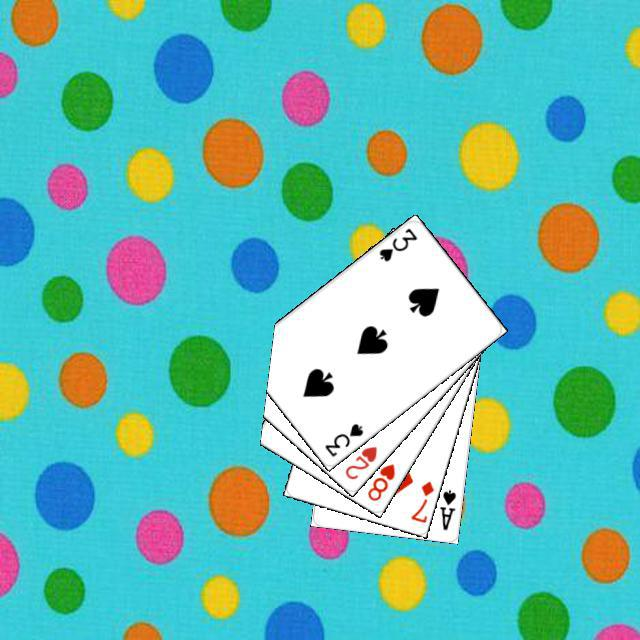2h: (340, 441, 379, 481)
3s: (320, 418, 365, 458), (374, 223, 419, 263)
7d: (406, 476, 436, 524)
8h: (362, 459, 397, 503)
As: (435, 485, 457, 532)
